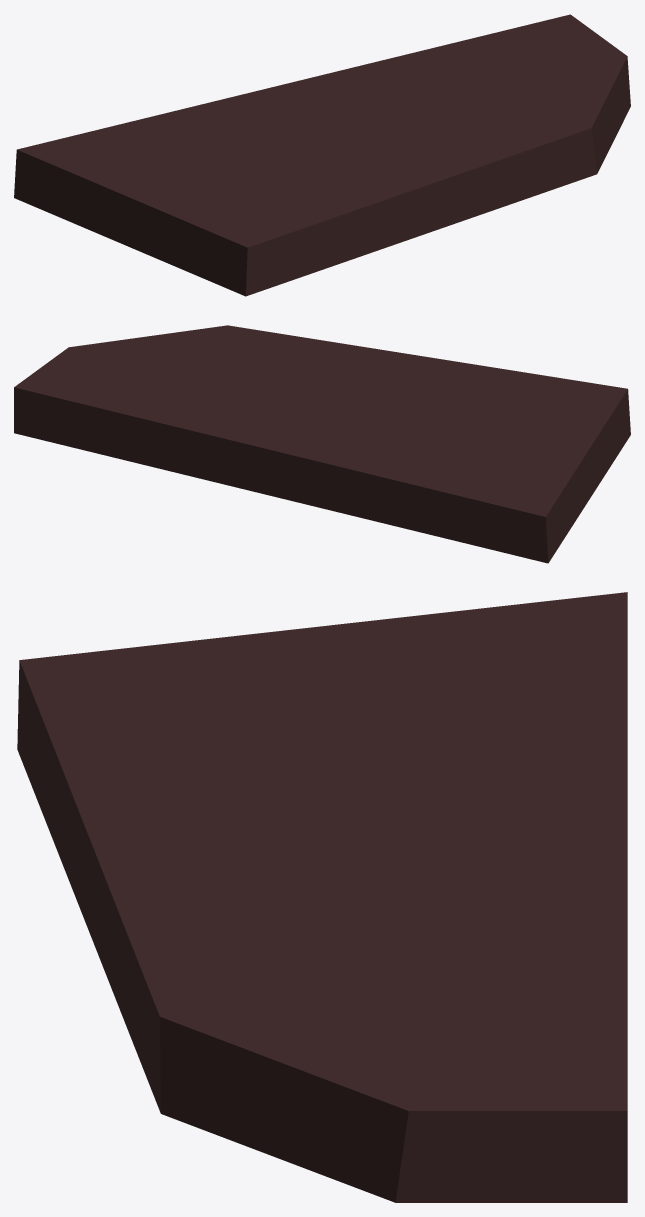
File: T_SolDetruit_5.6.fbx
3 views of the same model, one above another, from view 1: azimuth 30°, elevation 25°; view 2: azimuth 150°, elevation 25°; view 3: azimuth 270°, elevation 25° (orthographic). The views are drawn at different scales.
Parts seen in each view (by area): view 1: T_SolDetruit_5.6; view 2: T_SolDetruit_5.6; view 3: T_SolDetruit_5.6.
Boxes of the visible parts, x1=… form: T_SolDetruit_5.6: x1=14, y1=14, x2=630, y2=296; T_SolDetruit_5.6: x1=14, y1=325, x2=630, y2=563; T_SolDetruit_5.6: x1=17, y1=592, x2=627, y2=1202.
Bounding box in the file's own units: 164 × 13.48 × 81.23.
